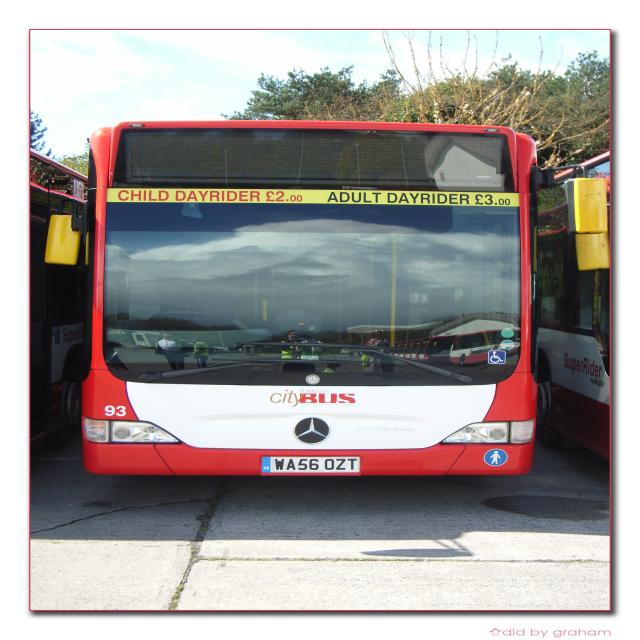Bus: (83, 120, 543, 472), (538, 152, 609, 456), (30, 152, 86, 442)
